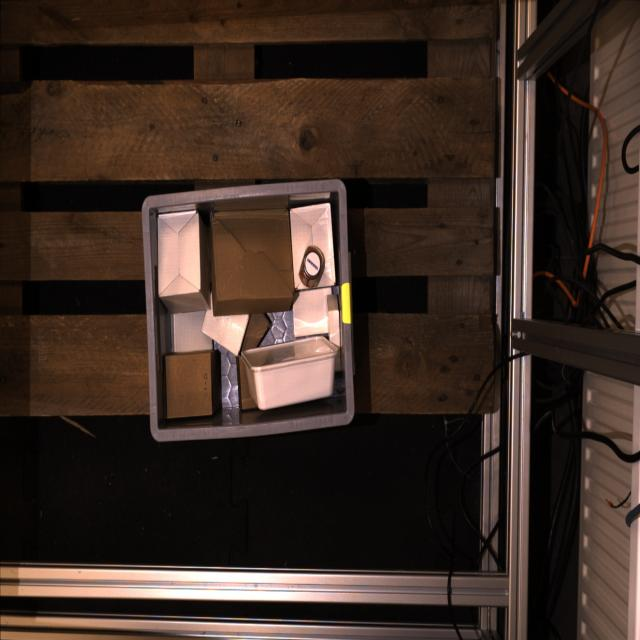CardboardBox: (210, 208, 294, 316), (158, 210, 210, 313), (290, 203, 335, 290), (165, 349, 220, 418), (202, 310, 249, 356), (293, 287, 331, 337), (170, 311, 212, 351), (241, 314, 270, 353), (237, 355, 257, 410), (327, 294, 341, 371)
PlasticContainer: (240, 336, 338, 410)
SweetsJar: (299, 246, 325, 287)
